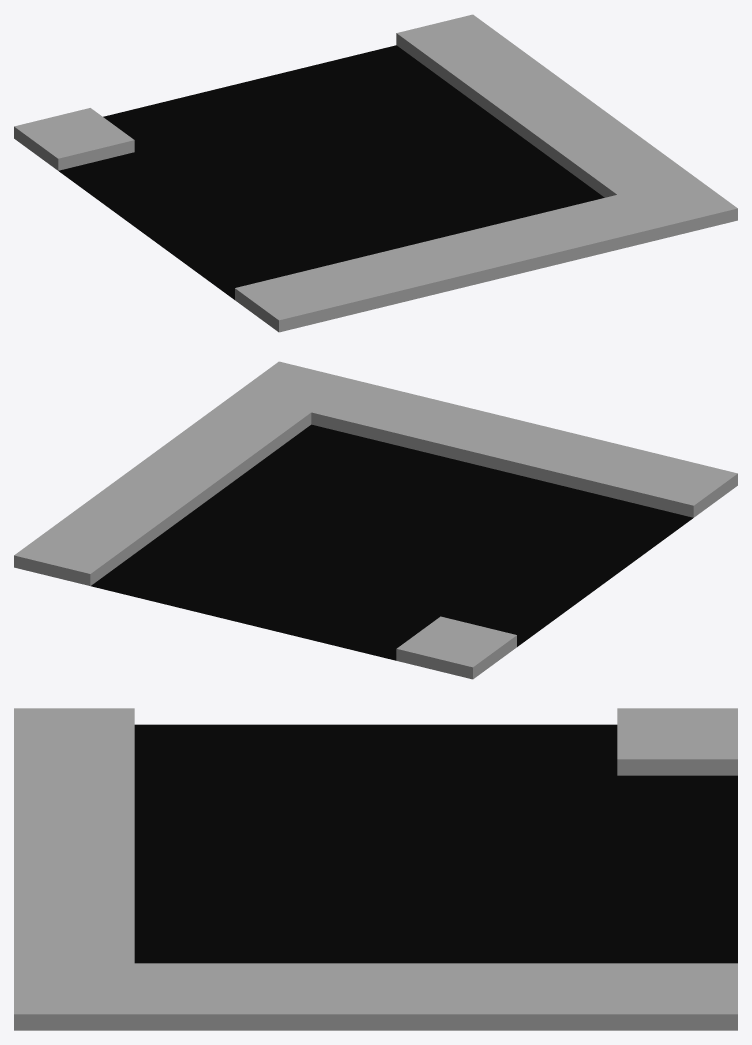
File: Not Walking Road3.001_Material.025.glb
The picture shows the model from 3 angles, top to bottom: view 1: azimuth 30°, elevation 25°; view 2: azimuth 150°, elevation 25°; view 3: azimuth 270°, elevation 25°; orthographic projection. The views are drawn at different scales.
Visible parts, largest first — view 1: Not Walking Road3.001_Material.025_0; view 2: Not Walking Road3.001_Material.025_0; view 3: Not Walking Road3.001_Material.025_0.
Part boxes in pixels (left/top/right/bottom): Not Walking Road3.001_Material.025_0: left=14, top=14, right=737, bottom=332; Not Walking Road3.001_Material.025_0: left=14, top=361, right=737, bottom=679; Not Walking Road3.001_Material.025_0: left=14, top=708, right=737, bottom=1030.
Size of the model in its own units: 2 by 0.0504 by 2.
1 material, 1 textured.
